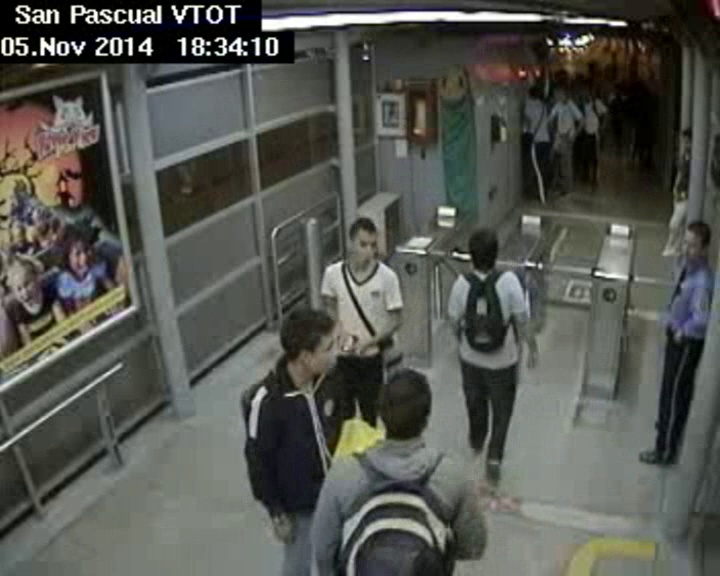person: (266, 295, 353, 390), (364, 362, 447, 445), (339, 213, 385, 279), (673, 211, 717, 271), (460, 221, 505, 276), (680, 124, 696, 151), (525, 83, 544, 104), (553, 84, 569, 103), (583, 84, 601, 99)
